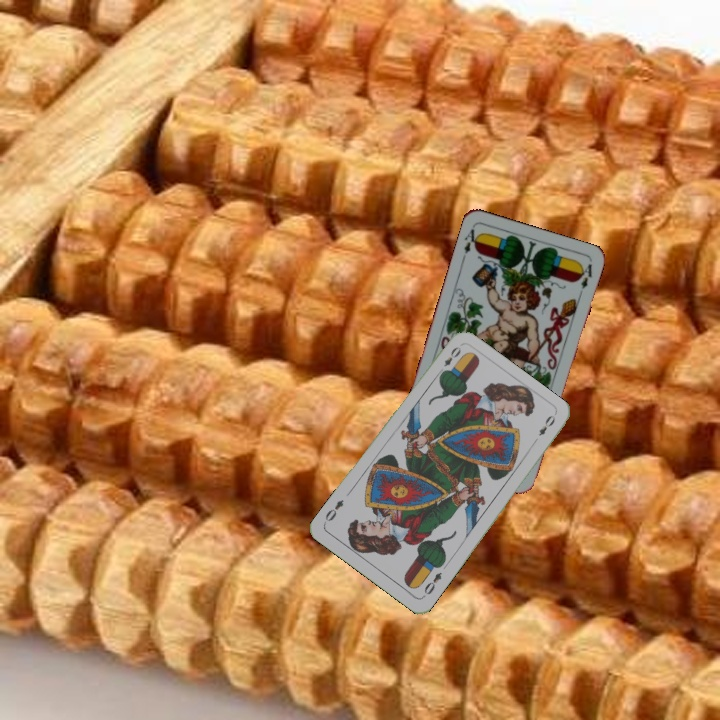EA: (458, 223, 482, 262)
EO: (435, 342, 464, 377), (420, 568, 445, 597)
